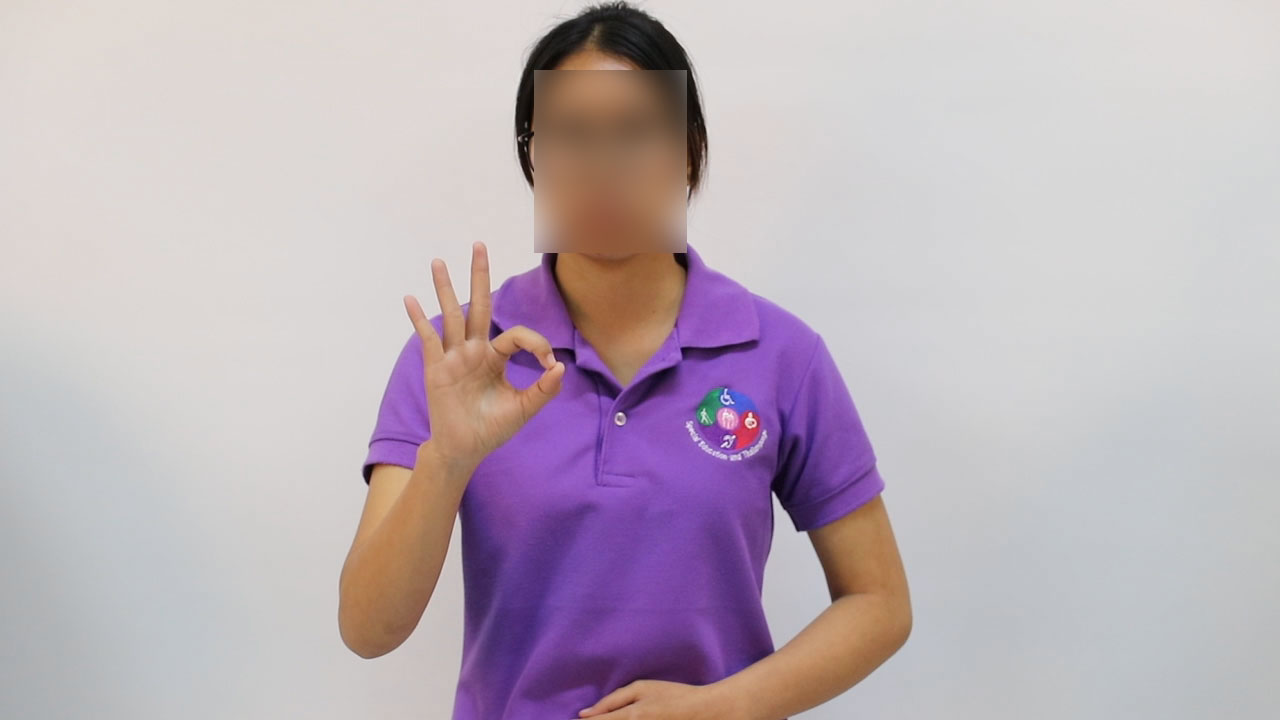for: (396, 227, 571, 462)
